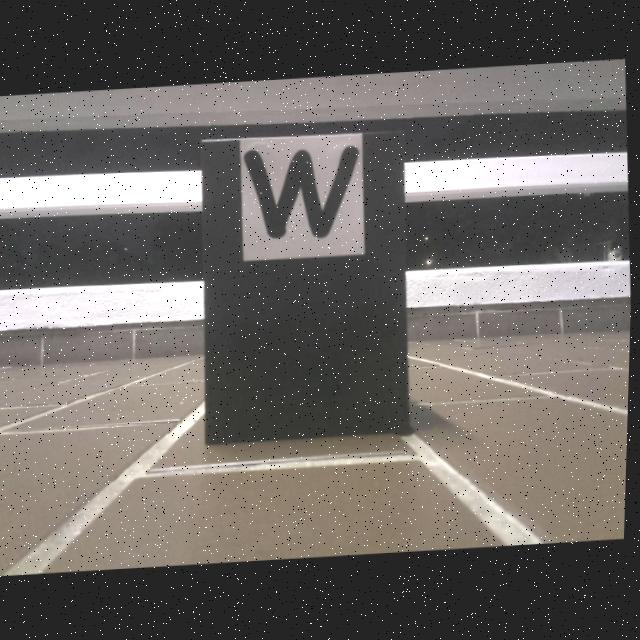W: (242, 145, 362, 242)
